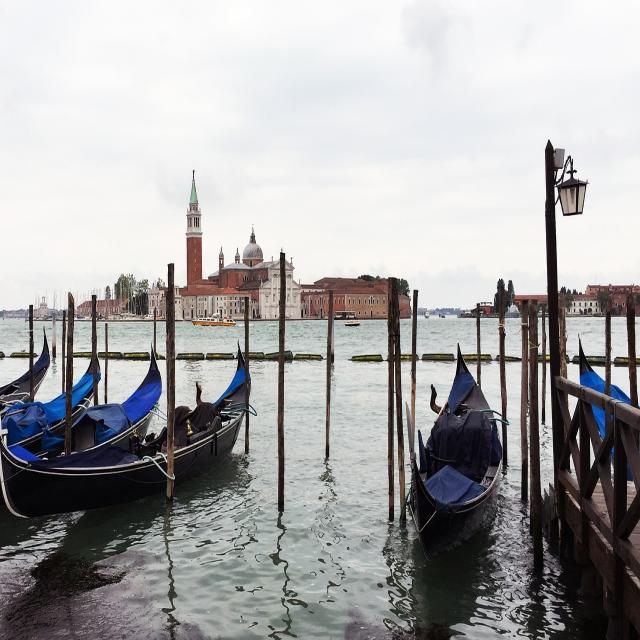boat: (0, 344, 276, 530), (403, 332, 502, 568)
